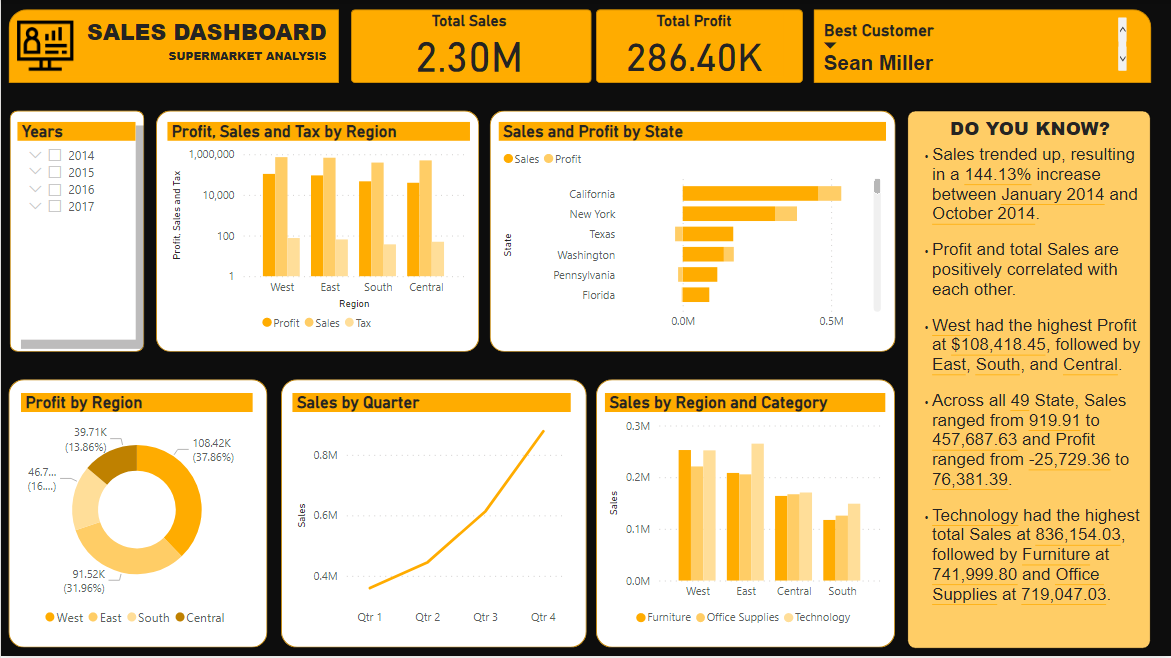

Layout of this report page (visuals, bound fields, positions):
{"tool":"powerbi","page":{"name":"US SALES ANALYSIS","canvas":[1280,720],"ordinal":0},"visuals":[{"type":"textbox","title":"DO YOU KNOW?","box":[991.3,122.6,266.6,589.1],"z":0},{"type":"image","box":[59.5,271.3,46.4,41.7],"z":1000},{"type":"shape","box":[534.3,122.6,443.9,264.2],"z":2000},{"type":"barChart","fields":{"Category":["Orders.State"],"Y":["Orders.Sales","Orders.Profit"]},"box":[543.9,135.7,423.7,238],"z":3000},{"type":"shape","box":[169,122.6,353.5,264.2],"z":4000},{"type":"clusteredColumnChart","fields":{"Y":["Orders.Profit","Orders.Sales","Orders.Tax"],"Category":["Orders.Region"]},"box":[182.1,135.7,330.8,238],"z":5000},{"type":"shape","box":[9.5,122.6,147.6,264.2],"z":6000},{"type":"slicer","title":"Years","fields":{"Values":["Orders.Order Date.Variation.Date Hierarchy.Year","Orders.Order Date.Variation.Date Hierarchy.Quarter","Orders.Order Date.Variation.Date Hierarchy.Month","Orders.Order Date.Variation.Date Hierarchy.Day"]},"box":[17.9,135.7,129.7,238],"z":7000},{"type":"shape","box":[8.3,416.5,283.2,294],"z":8000},{"type":"donutChart","fields":{"Y":["Orders.Profit"],"Category":["Orders.Region"]},"box":[21.4,432,253.5,264.2],"z":9000},{"type":"shape","box":[305.9,416.5,334.4,294],"z":10000},{"type":"lineChart","fields":{"Y":["Orders.Sales"],"Category":["Orders.Order Date.Variation.Date Hierarchy.Year","Orders.Order Date.Variation.Date Hierarchy.Quarter","Orders.Order Date.Variation.Date Hierarchy.Month","Orders.Order Date.Variation.Date Hierarchy.Day"]},"box":[318.9,432,304.7,264.2],"z":11000},{"type":"shape","box":[651,416.5,327.3,294],"z":12000},{"type":"clusteredColumnChart","fields":{"Y":["Orders.Sales"],"Category":["Orders.Region"],"Series":["Orders.Category"]},"box":[660.5,432,307,264.2],"z":13000},{"type":"shape","box":[651,11.9,226.1,80.9],"z":14000},{"type":"card","title":"Total Profit","fields":{"Values":["Orders.Profit"]},"box":[660.5,15.5,195.2,70.2],"z":15000},{"type":"shape","box":[383.2,11.9,263,80.9],"z":16000},{"type":"card","title":"Total Sales","fields":{"Values":["Orders.Sales"]},"box":[392.7,15.5,239.2,70.2],"z":17000},{"type":"shape","box":[888.9,12.3,369.2,80.7],"z":18000},{"type":"shape","box":[8.3,11.9,361.8,80.9],"z":20000},{"type":"textbox","box":[21.4,15.5,339.2,70.2],"z":21000},{"type":"image","box":[0,16.7,96.4,71.4],"z":22000},{"type":"tableEx","title":"Best Customer","fields":{"Values":["Orders.Customer Name"]},"box":[888.9,16.4,347.4,76.6],"z":23000}]}

Visuals, with their boxes in screenshot pixels (x1, y1, x2, y2), scaled from the page's 1280x720 canvas onto the 1171x658 screenshot:
"DO YOU KNOW?" textbox: select_region(907, 112, 1151, 650)
image: select_region(54, 248, 97, 286)
shape: select_region(489, 112, 895, 353)
barChart - Orders.State x Orders.Sales: select_region(498, 124, 885, 342)
shape: select_region(155, 112, 478, 353)
clusteredColumnChart - Orders.Profit x Orders.Sales: select_region(167, 124, 469, 342)
shape: select_region(9, 112, 144, 353)
"Years" slicer: select_region(16, 124, 135, 342)
shape: select_region(8, 381, 267, 649)
donutChart - Orders.Profit x Orders.Region: select_region(20, 395, 251, 636)
shape: select_region(280, 381, 586, 649)
lineChart - Orders.Sales x Orders.Order Date.Variation.Date Hierarchy.Year: select_region(292, 395, 570, 636)
shape: select_region(596, 381, 895, 649)
clusteredColumnChart - Orders.Sales x Orders.Region: select_region(604, 395, 885, 636)
shape: select_region(596, 11, 802, 85)
"Total Profit" card: select_region(604, 14, 783, 78)
shape: select_region(351, 11, 591, 85)
"Total Sales" card: select_region(359, 14, 578, 78)
shape: select_region(813, 11, 1151, 85)
shape: select_region(8, 11, 339, 85)
textbox: select_region(20, 14, 330, 78)
image: select_region(0, 15, 88, 81)
"Best Customer" tableEx: select_region(813, 15, 1131, 85)
